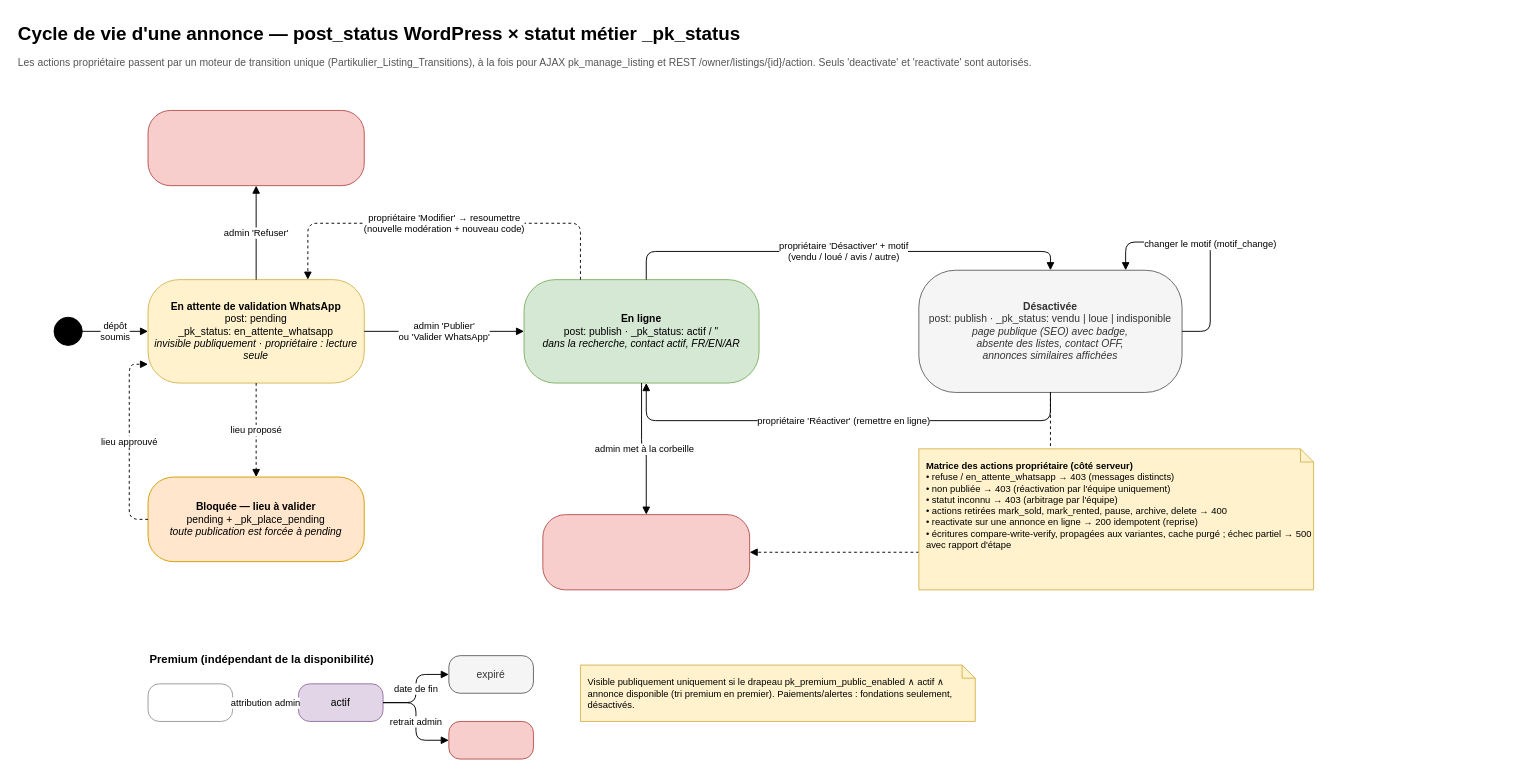
This 1536x776 diagram has some shape labels left out. The shapes that lost their labels are listed below. From the top down, each one's box as (x1, y1, x2, y2) in pixels, then its label:
(147, 110, 364, 186): Refusée post: draft · _pk_status: refuse le propriétaire ne peut pas agir (403)
(542, 514, 750, 590): Corbeille variantes EN/AR aussi supprimées restauration par l'équipe uniquement
(147, 683, 233, 721): aucun
(448, 721, 533, 759): révoqué
